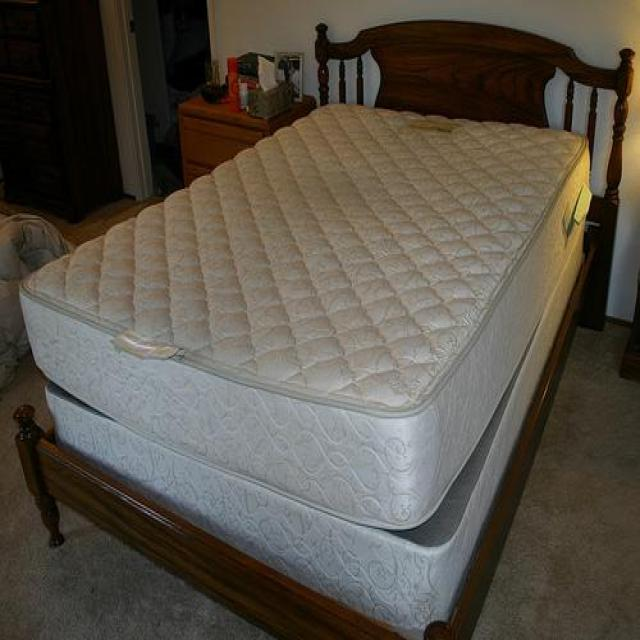bed: (11, 18, 635, 640)
